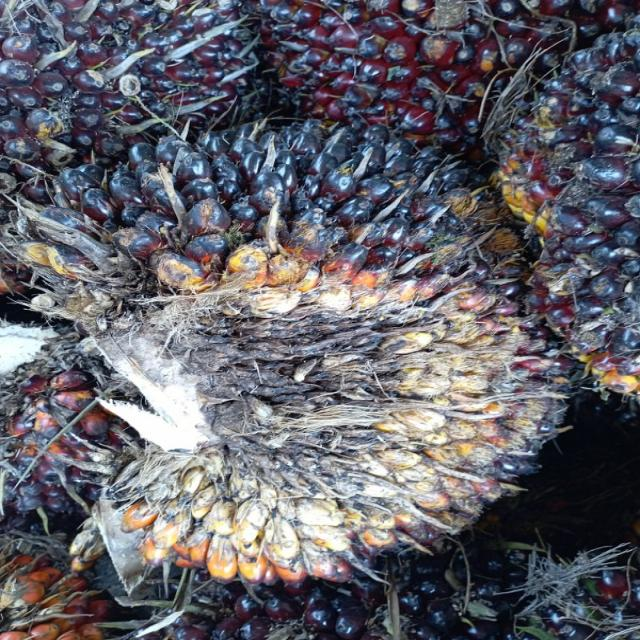fraksi 00: (29, 117, 576, 594)
